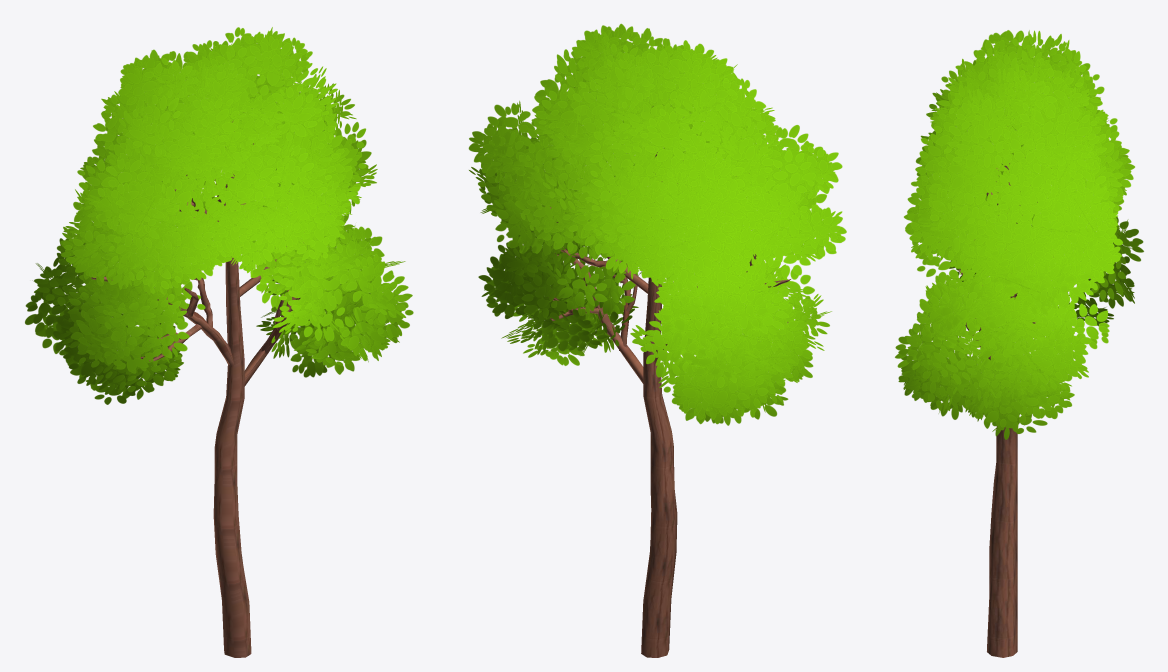
Rendered from normal_tree_1.glb.
3 renders of one model, left to right at view 1: azimuth 30°, elevation 25°; view 2: azimuth 150°, elevation 25°; view 3: azimuth 270°, elevation 25°, orthographic. The views are drawn at different scales.
Parts seen in each view (by area): view 1: NormalTree_1; view 2: NormalTree_1; view 3: NormalTree_1.
Part boxes in pixels (x1=…): NormalTree_1: x1=25, y1=27, x2=413, y2=657; NormalTree_1: x1=468, y1=23, x2=846, y2=657; NormalTree_1: x1=895, y1=30, x2=1143, y2=657.
Size of the model in its own units: 4.05 by 6.86 by 2.75.
Materials: 2 (2 with a texture image).
